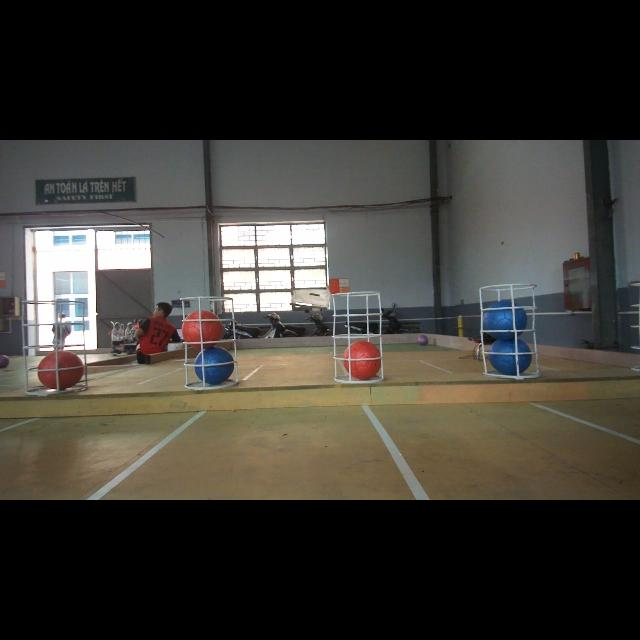B: (483, 301, 527, 341), (194, 346, 234, 386), (490, 338, 532, 374)
R: (38, 350, 84, 390), (343, 340, 381, 380), (182, 310, 222, 348)
